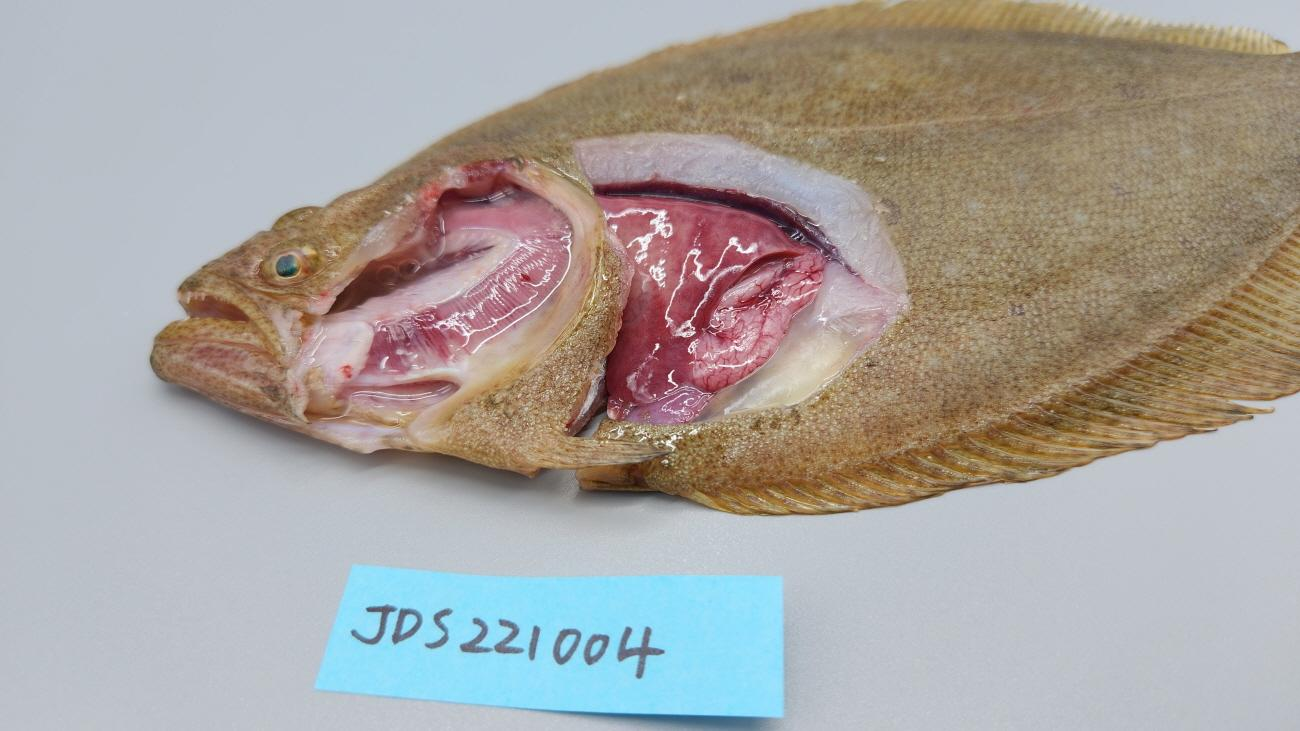VIGIP: (358, 194, 573, 374)
VILIC: (593, 191, 824, 418)
